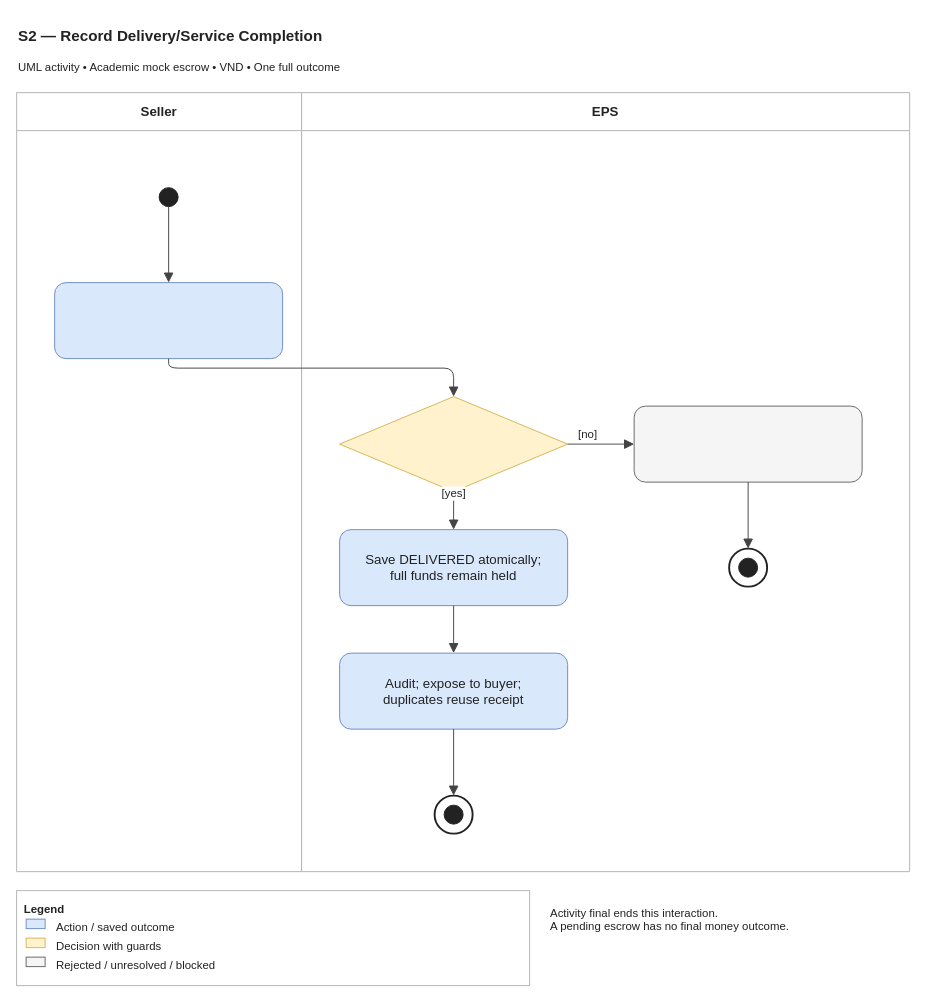
Image size: 926x1002. Some labels were removed from this diagram. The centre of each missing label's shape, as x and y in pixels:
"Reject invalid / stale delivery; keep completion unchanged" goes at pixel 747 443.
"Seller completion eligible?" goes at pixel 453 444.
"Submit full completion and required evidence" goes at pixel 168 320.
